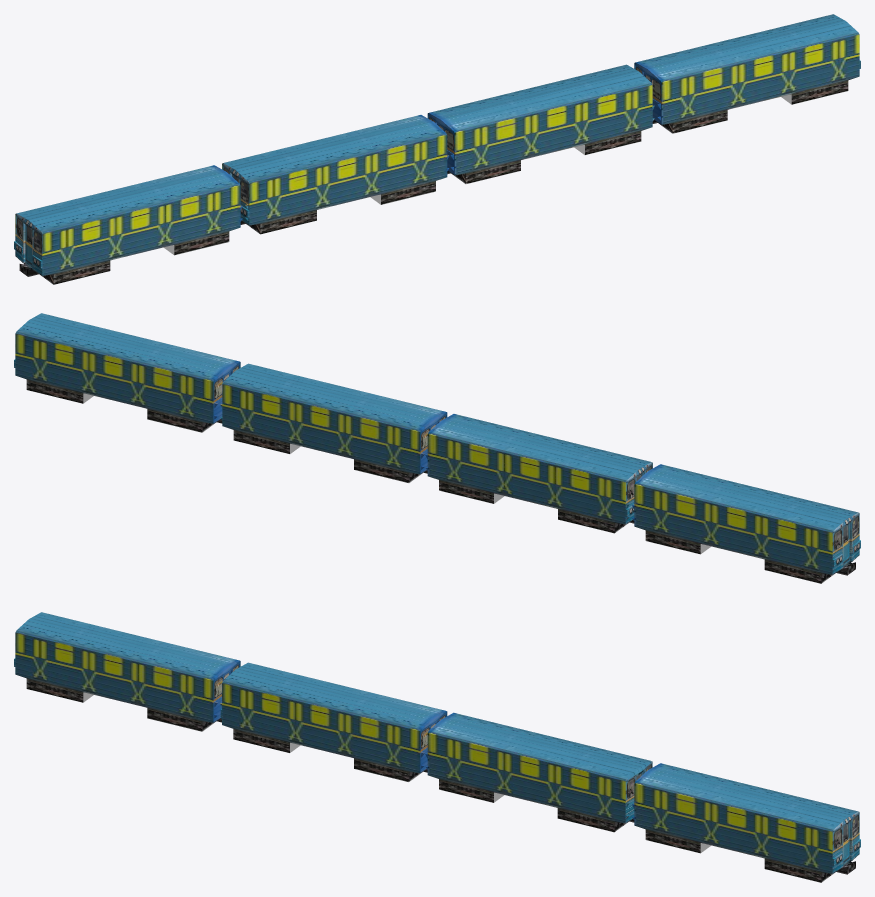
File: train.glb
3 views of the same model, one above another, from view 1: azimuth 30°, elevation 25°; view 2: azimuth 150°, elevation 25°; view 3: azimuth 330°, elevation 25° (orthographic).
Visible parts, largest first — view 1: ema502, ema502_rear, em501, em501_no_lights; view 2: ema502, ema502_rear, em501, em501_no_lights; view 3: ema502_rear, em501_no_lights, ema502, em501.
Boxes of the visible parts, x1=… form: ema502: x1=14, y1=165, x2=242, y2=284; ema502_rear: x1=634, y1=14, x2=860, y2=133; em501: x1=222, y1=115, x2=449, y2=234; em501_no_lights: x1=427, y1=64, x2=654, y2=183; ema502: x1=632, y1=464, x2=860, y2=583; ema502_rear: x1=14, y1=313, x2=240, y2=432; em501: x1=425, y1=414, x2=652, y2=533; em501_no_lights: x1=220, y1=363, x2=447, y2=482; ema502_rear: x1=632, y1=763, x2=860, y2=882; em501_no_lights: x1=425, y1=712, x2=652, y2=832; ema502: x1=14, y1=612, x2=240, y2=731; em501: x1=220, y1=662, x2=447, y2=781.
Bounding box in the file's own units: 35.38 × 2.34 × 2.01.
Materials: 1 (1 with a texture image).
